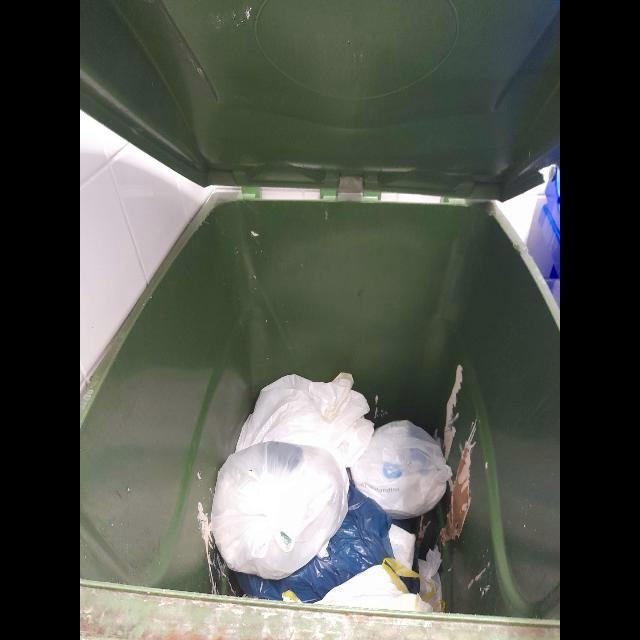plastic_bag: (232, 484, 395, 603), (209, 442, 348, 581), (234, 372, 376, 495), (349, 420, 452, 519)
